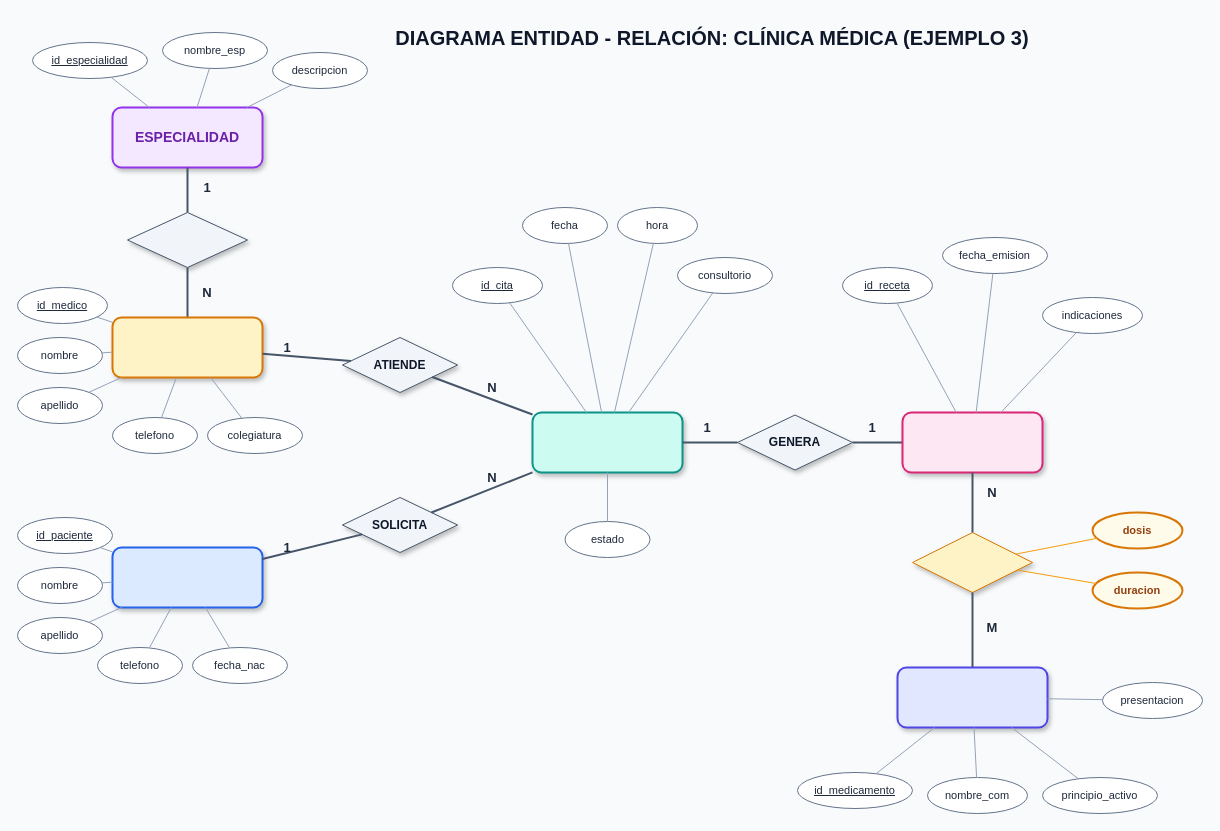
Image size: 1220x831. Some labels were removed from this diagram. Each missing label, with the centre of its shape:
CITA: (608,443)
INCLUYE: (973,564)
MEDICAMENTO: (973,698)
MÉDICO: (188,348)
PACIENTE: (188,578)
PERTENECE: (188,241)
RECETA: (973,443)
